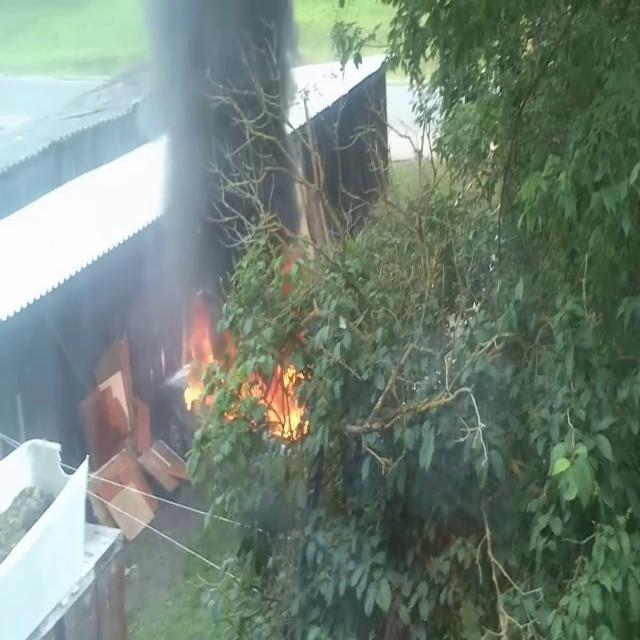Fire: (179, 300, 221, 410), (260, 356, 310, 446)
Smoke: (144, 1, 246, 357)
